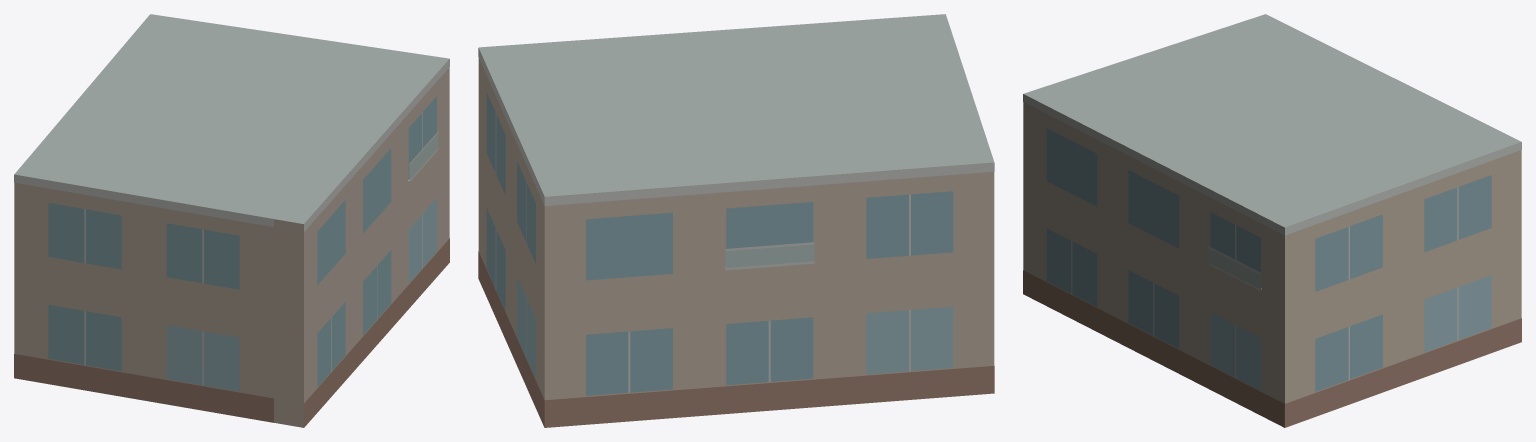
The model's file is survey-upis-32655402.glb.
The picture shows the model from 3 angles, left to right: view 1: azimuth 30°, elevation 25°; view 2: azimuth 150°, elevation 25°; view 3: azimuth 270°, elevation 25°; orthographic projection. The views are drawn at different scales.
Parts seen in each view (by area): view 1: survey-upis-32655402.tmp; view 2: survey-upis-32655402.tmp; view 3: survey-upis-32655402.tmp.
Boxes of the visible parts, bbox=[...] form: survey-upis-32655402.tmp: bbox=[14, 14, 449, 427]; survey-upis-32655402.tmp: bbox=[478, 14, 994, 427]; survey-upis-32655402.tmp: bbox=[1023, 14, 1521, 427].
Bounding box in the file's own units: 13.96 × 6.1 × 13.78.
